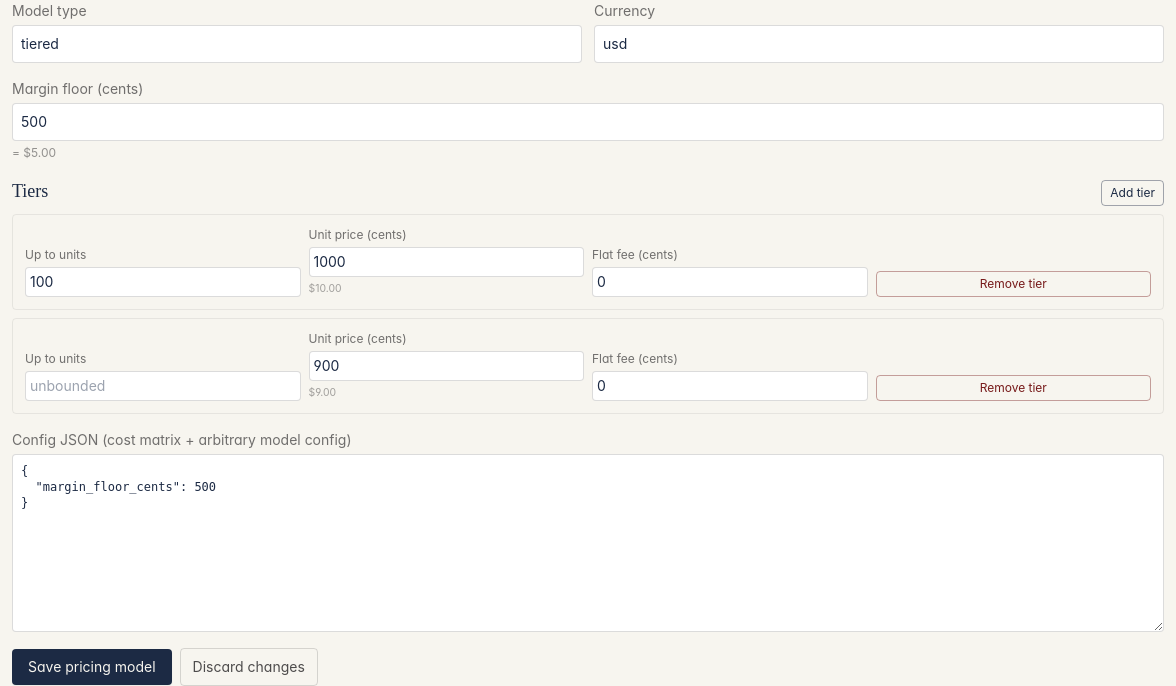
Scenario: PricingModelEditor (HUB-1654) › AC#3 — save success + PUT payload shape › PUTs to the tenant-scoped pricing endpoint and shows success toast
The width and height of the screenshot is (1176, 686).
(page scrolled)
Expected: the element with test id "pricing-editor-tier-row-0" is shown, [12,214,1164,310]
Click the button with test id "pricing-editor-save": (92, 667) [12,649,172,685]
(page scrolled)
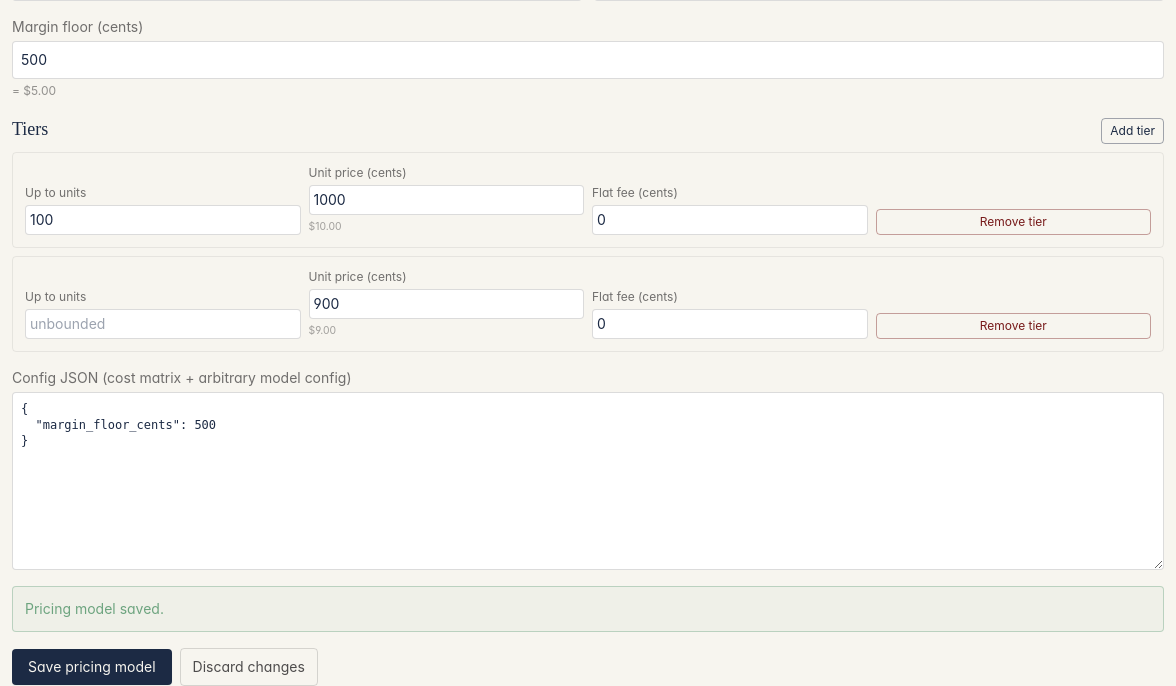
Now the message "Pricing model saved." is shown, box [12,586,1164,632]
